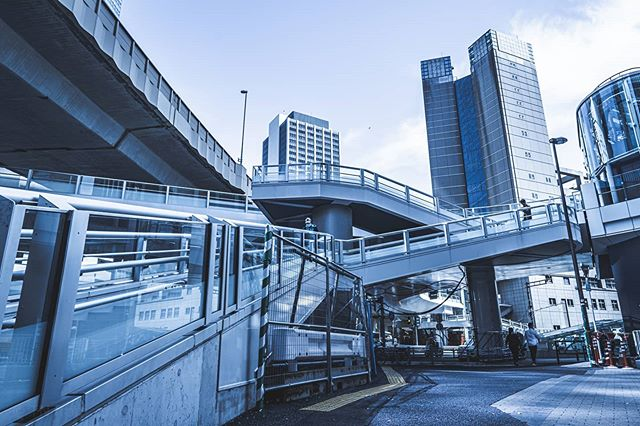building: (422, 24, 557, 361), (256, 112, 343, 193)
sky: (132, 1, 637, 158)
